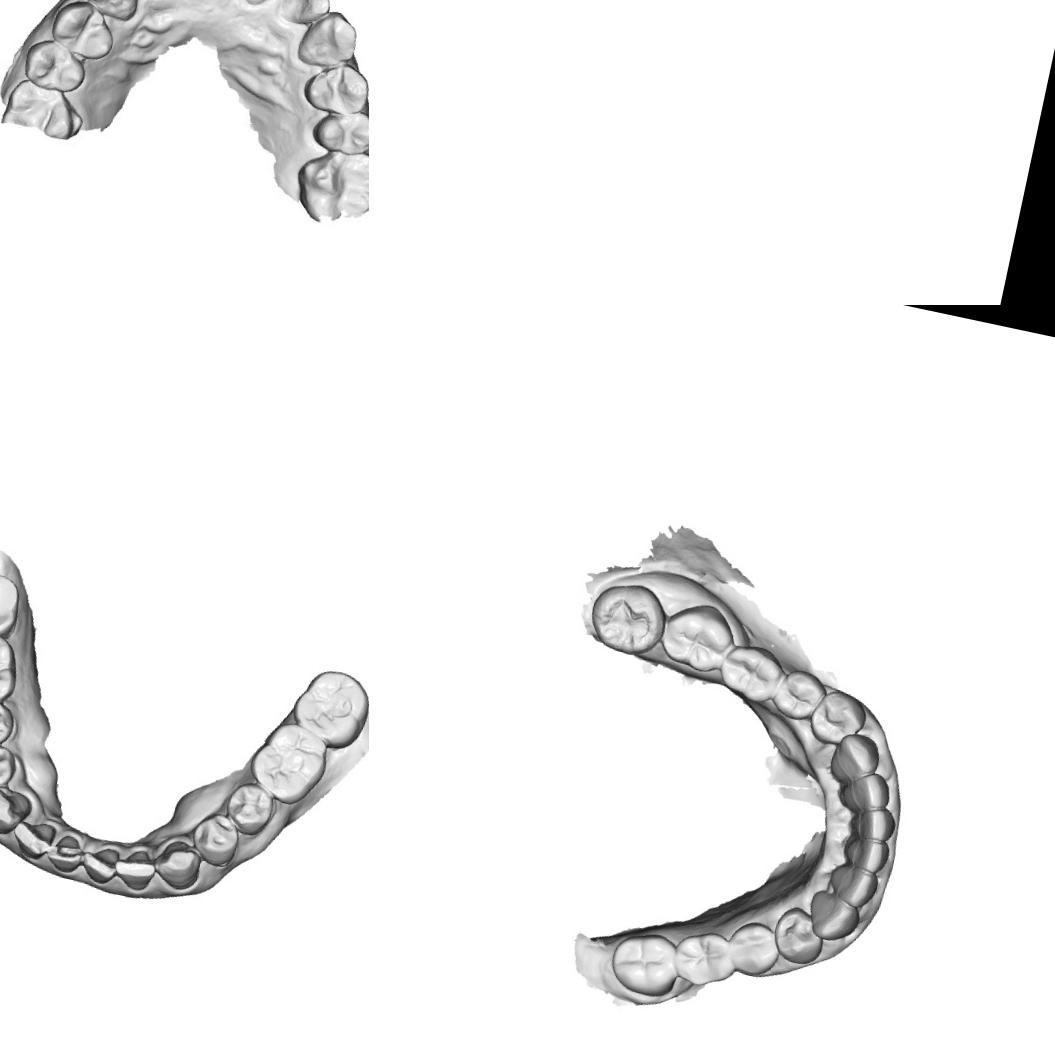canine: (294, 3, 364, 75), (824, 728, 886, 790), (802, 888, 864, 948), (147, 834, 206, 893), (0, 781, 35, 839), (79, 0, 149, 24)
incisor: (833, 766, 896, 822), (821, 862, 881, 910), (842, 800, 900, 847), (836, 832, 892, 878), (109, 844, 160, 894), (8, 815, 57, 864), (76, 841, 122, 888), (42, 830, 86, 876), (275, 0, 338, 31)
molar: (244, 716, 334, 811), (285, 662, 369, 754), (583, 575, 671, 662), (288, 140, 369, 231), (654, 595, 740, 678), (606, 924, 685, 1002), (670, 924, 740, 993), (0, 629, 25, 713), (0, 566, 27, 643)
premolar: (44, 0, 122, 65), (297, 54, 369, 122), (716, 638, 786, 706), (17, 35, 92, 98), (804, 684, 872, 752), (766, 902, 832, 972), (722, 916, 786, 982), (307, 102, 369, 162), (185, 808, 244, 871), (220, 778, 278, 839), (770, 664, 826, 725), (0, 739, 20, 795), (0, 694, 18, 752)
